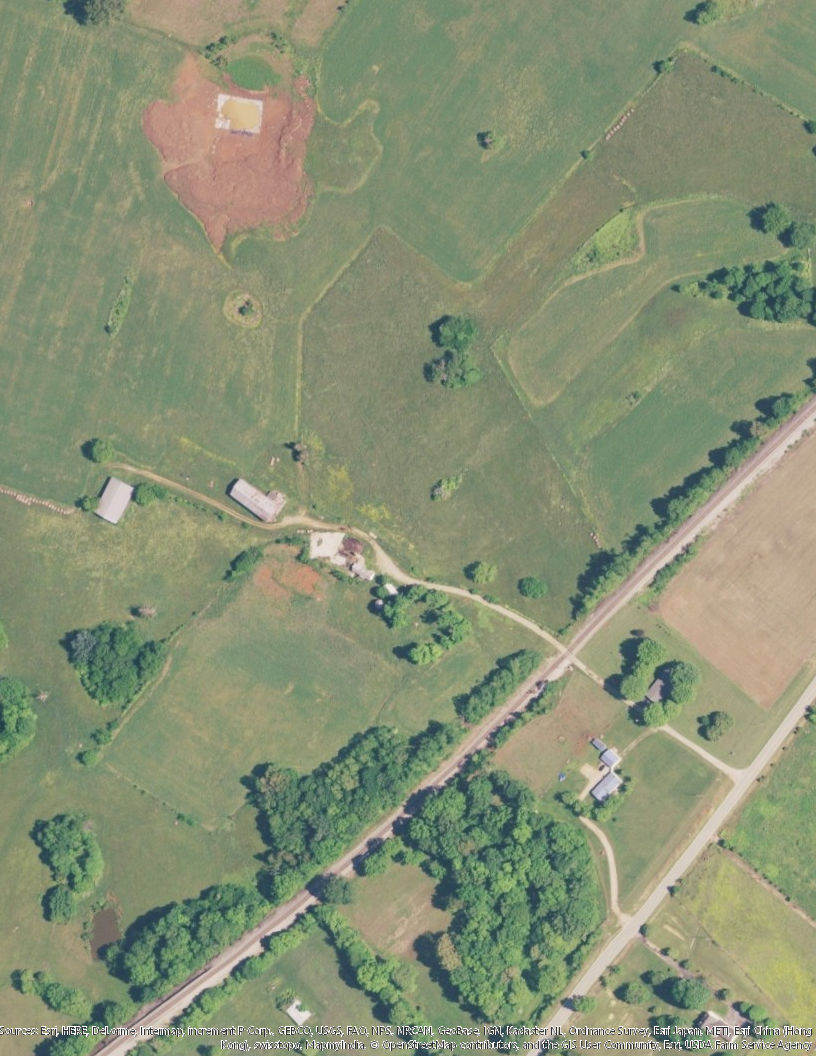cafo: (228, 477, 294, 527), (90, 473, 141, 530)
